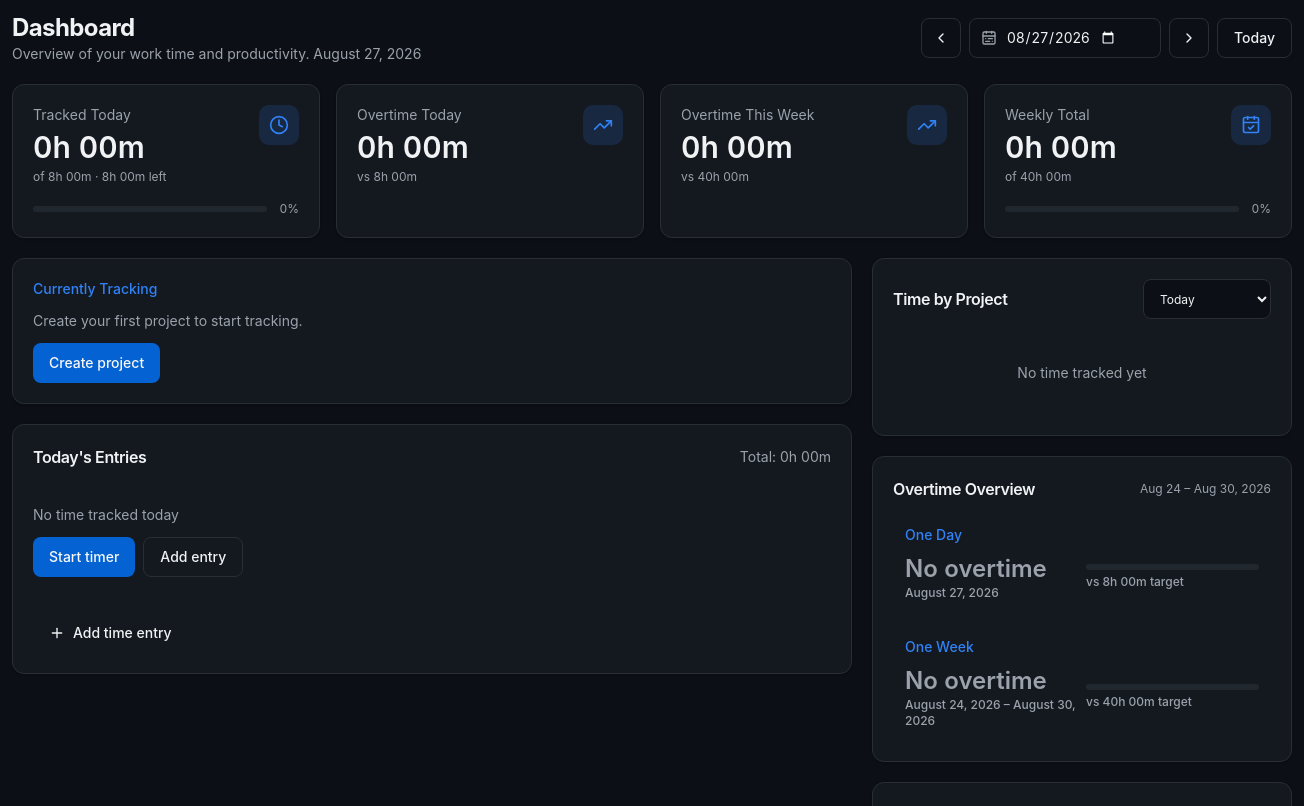
Test: DashboardPage – dialog interactions › clicking Start timer in empty entries card opens the project picker
This screenshot has width=1304, height=806.
Expected: the text "No time tracked today" is shown, [33, 505, 179, 525]
Click the button "Start timer" at (84,557), box [33, 537, 135, 577]
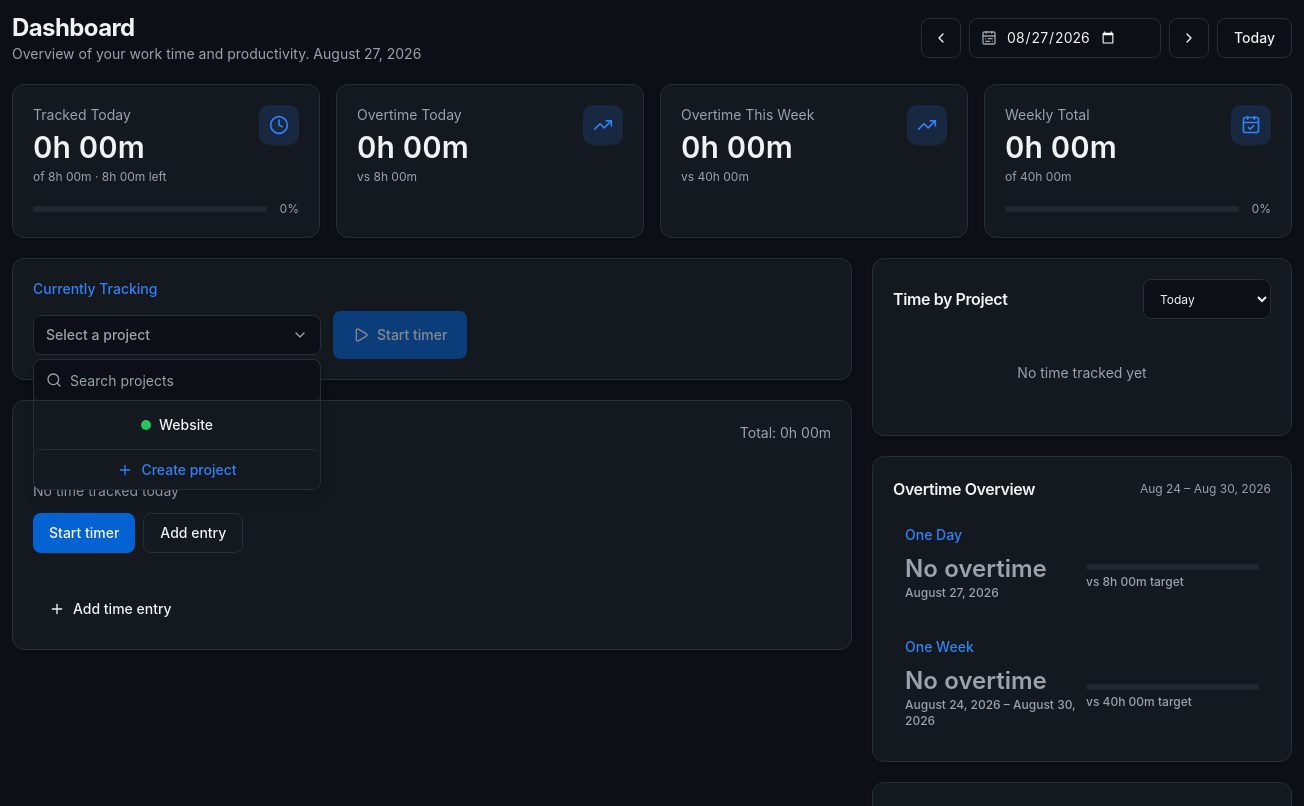
Now the field labelled "Search projects" is shown, box [34, 360, 320, 400]
